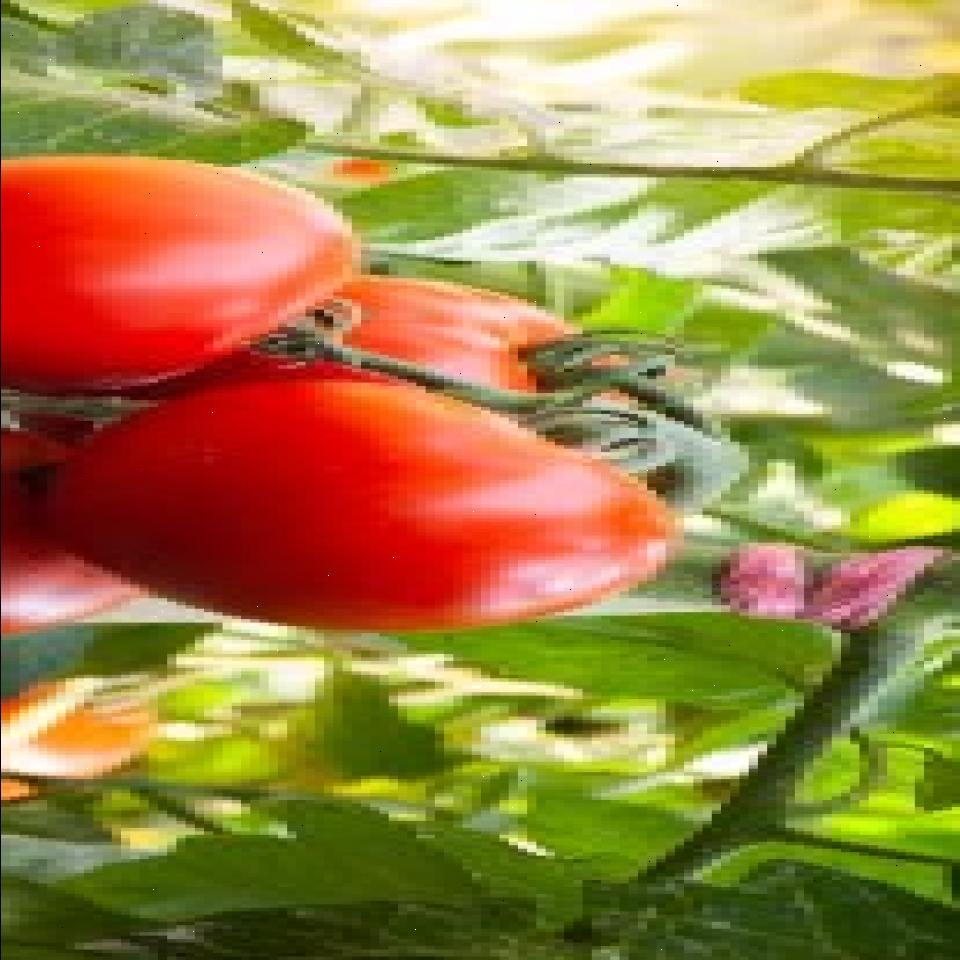Healthy: (103, 398, 698, 626), (0, 160, 369, 396), (0, 421, 148, 643)
